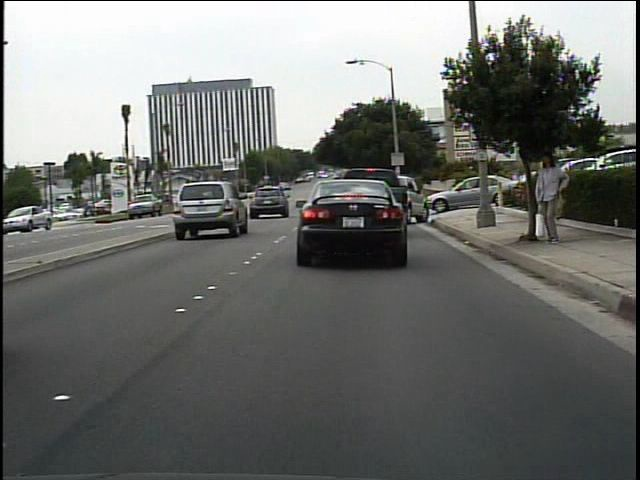person: (532, 147, 573, 248)
